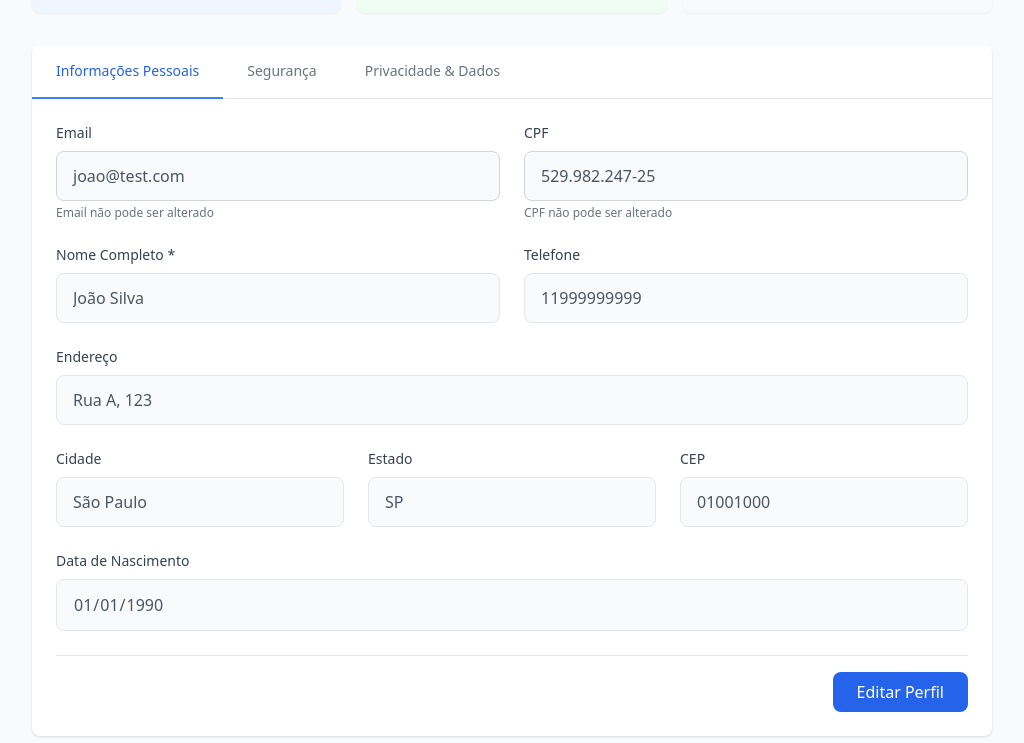
ProfilePage › shows success after profile save
The width and height of the screenshot is (1024, 743).
(page scrolled)
Click the button "Editar Perfil": (900, 692) left=832, top=672, right=968, bottom=712
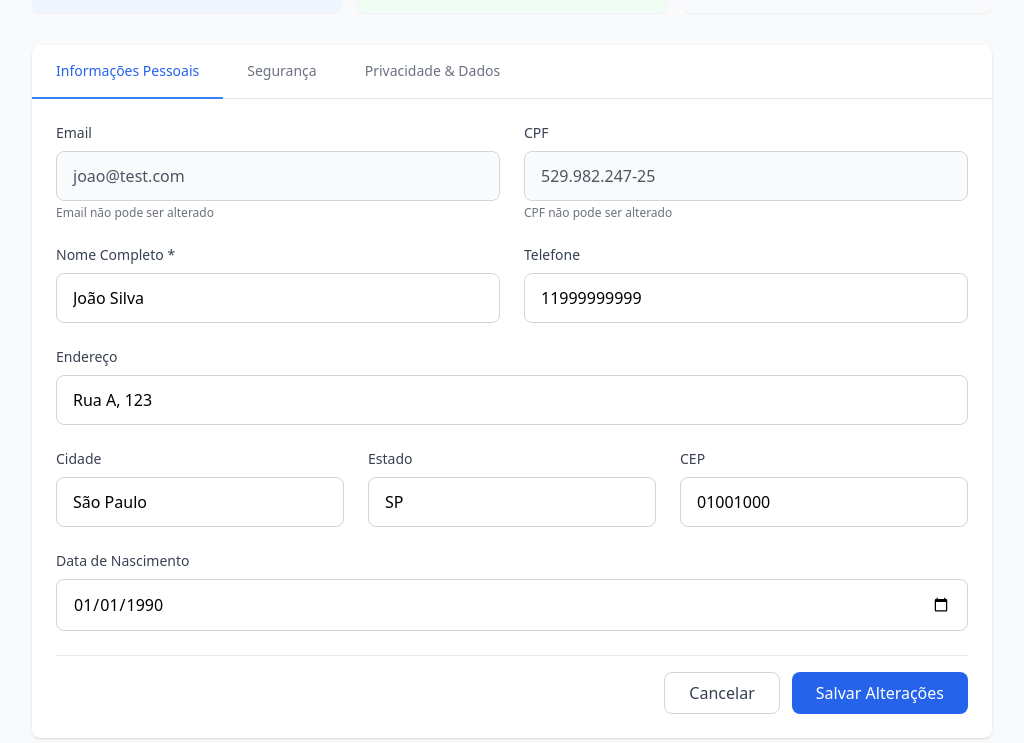
Click the button "Salvar Alterações": (880, 693) left=792, top=672, right=968, bottom=714
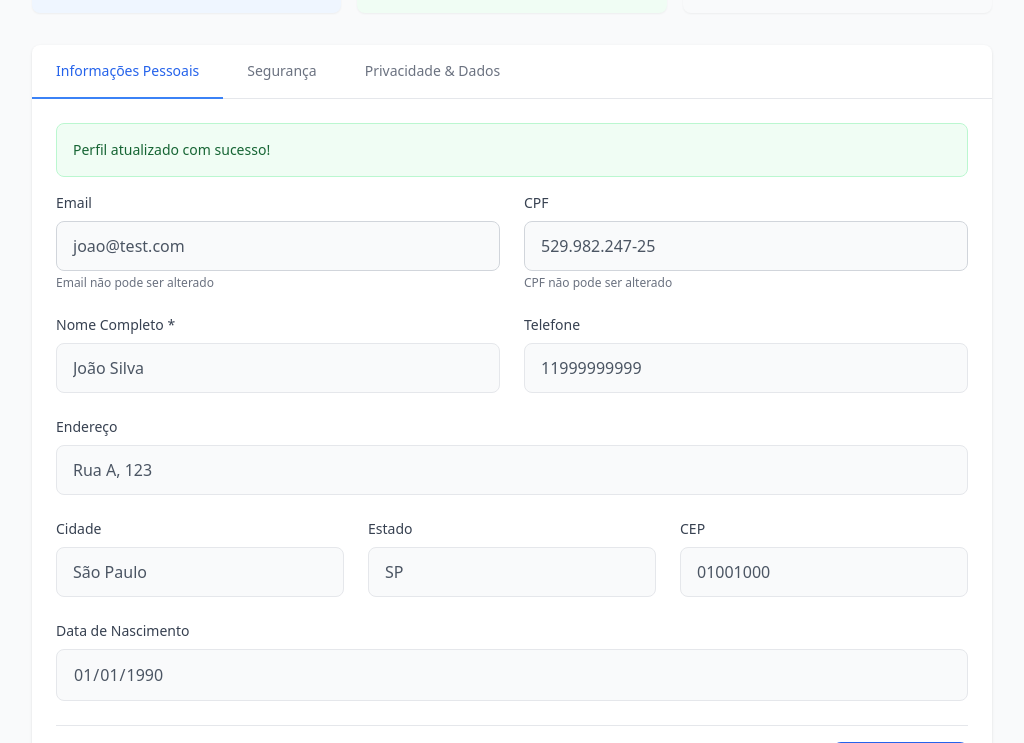
Now the text "Perfil atualizado com sucesso!" is shown, box left=73, top=140, right=270, bottom=159
